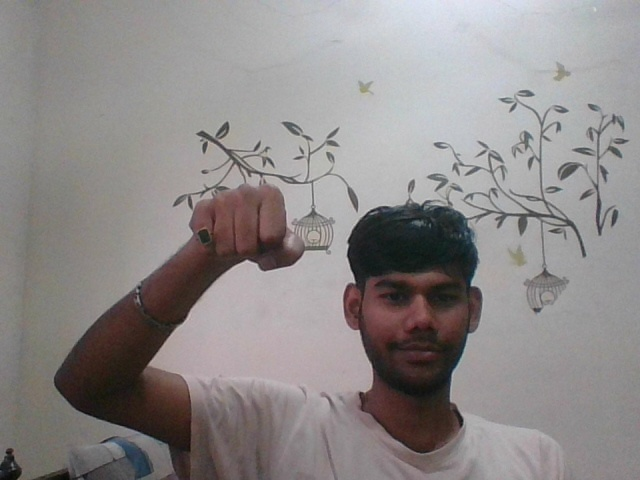Thank You: (178, 173, 313, 272)
